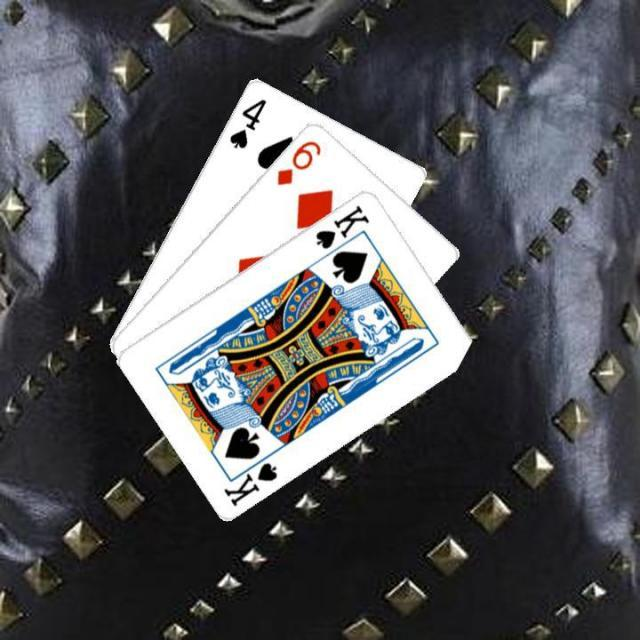4S: (224, 94, 268, 150)
6D: (272, 136, 324, 187)
KS: (220, 447, 280, 508), (311, 200, 372, 250)
